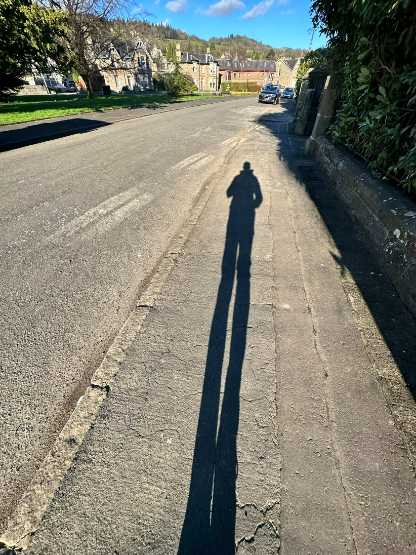car: (255, 80, 283, 105), (283, 81, 299, 103)
tree: (29, 0, 144, 93)
